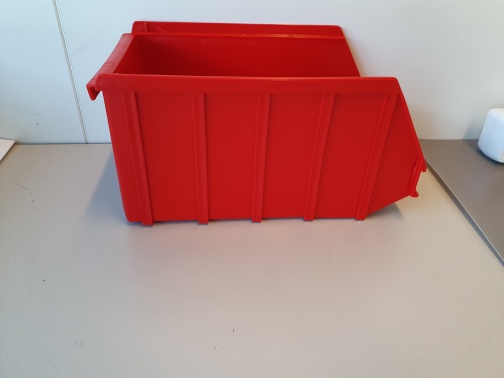tray_left: (86, 71, 428, 226)
